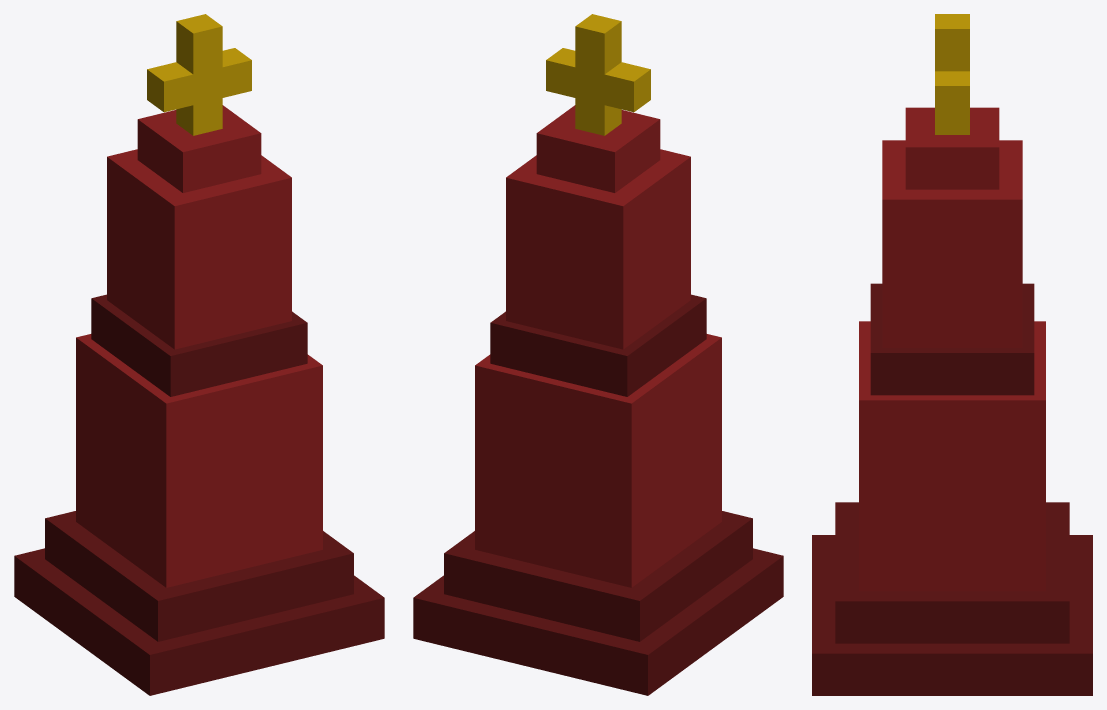
The model's file is commander.gltf.
3 renders of one model, left to right at view 1: azimuth 30°, elevation 25°; view 2: azimuth 150°, elevation 25°; view 3: azimuth 270°, elevation 25°, orthographic. The views are drawn at different scales.
Parts seen in each view (by area): view 1: body, upper, base, foot, waist, cap, cross_v, cross_h; view 2: body, upper, base, foot, waist, cap, cross_v, cross_h; view 3: body, upper, base, foot, waist, cap, cross_v, cross_h.
Boxes of the visible parts, x1,y1,x2,y2 form: body: (76, 334, 322, 587); upper: (107, 149, 291, 349); base: (14, 548, 384, 695); foot: (45, 511, 353, 641); waist: (91, 294, 307, 396); cap: (137, 105, 261, 192); cross_v: (176, 14, 222, 135); cross_h: (147, 48, 251, 112); body: (475, 334, 721, 587); upper: (506, 149, 690, 349); base: (413, 548, 783, 695); foot: (444, 511, 752, 641); waist: (490, 294, 706, 396); cap: (536, 105, 660, 192); cross_v: (575, 14, 621, 135); cross_h: (546, 48, 650, 112); body: (859, 321, 1045, 591); upper: (882, 140, 1022, 347); base: (812, 535, 1092, 695); foot: (835, 502, 1069, 643); waist: (870, 283, 1034, 395); cap: (905, 107, 999, 189); cross_v: (935, 14, 969, 134); cross_h: (935, 71, 969, 117).
Size of the model in its own units: 0.75 by 1.81 by 0.75.
Materials: 3 (3 with a texture image).
